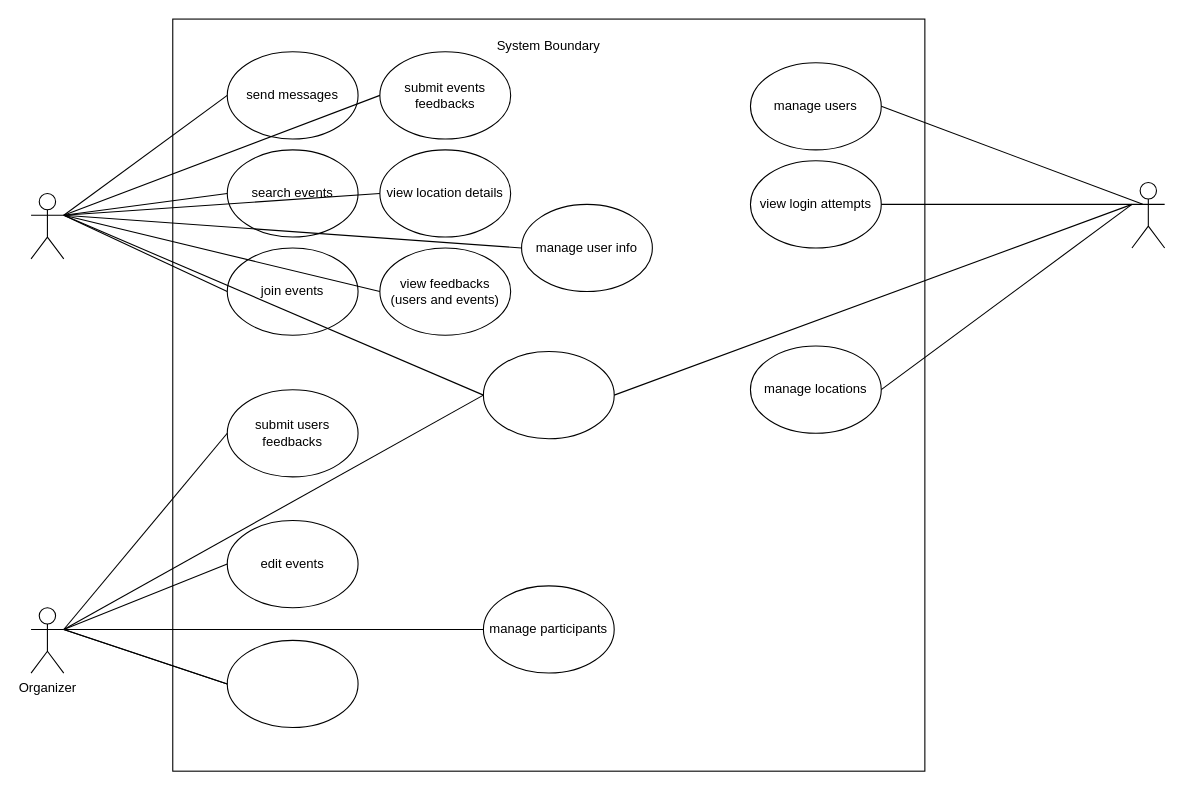
Image size: 1186x790. Some labels were removed from this diagram. The centre of each missing label's shape, as x and y in pixels:
Admin: the point at 1148,214
create events: the point at 292,683
sign in/up: the point at 548,394
User: the point at 47,225
